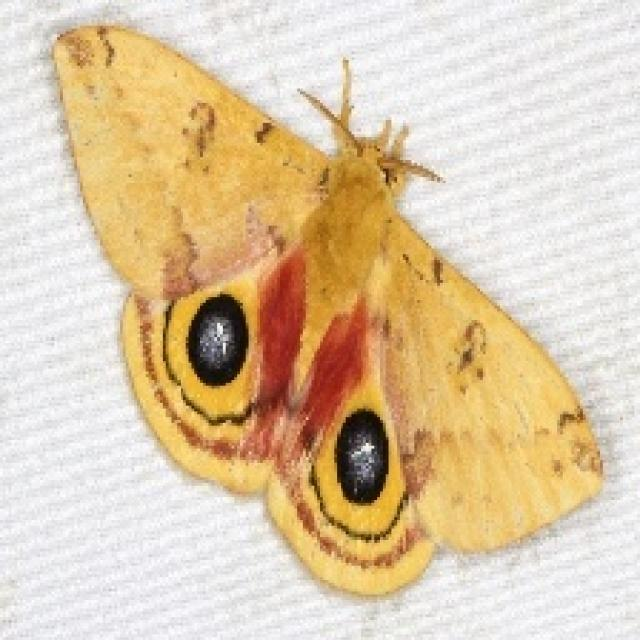butterfly: (49, 20, 606, 597)
